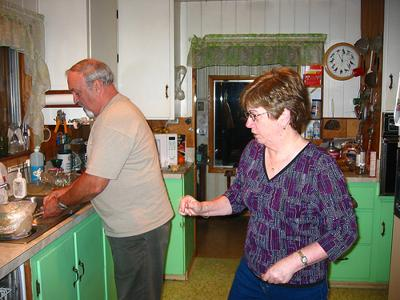person: (39, 60, 176, 300)
